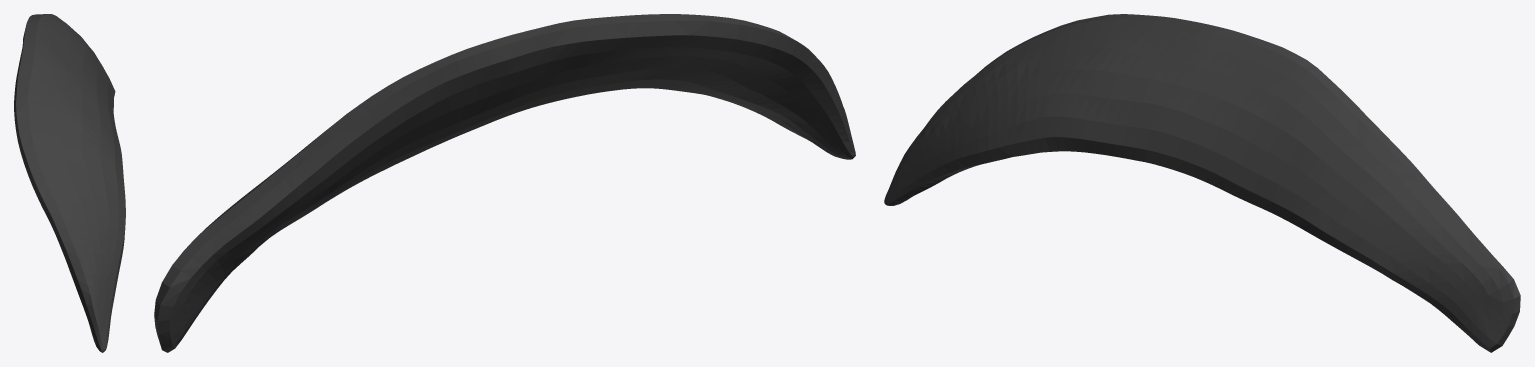
File: frontoscutularis.glb
The picture shows the model from 3 angles, left to right: view 1: azimuth 30°, elevation 25°; view 2: azimuth 150°, elevation 25°; view 3: azimuth 270°, elevation 25°; orthographic projection. The views are drawn at different scales.
Visible parts, largest first — view 1: frontoscutularis; view 2: frontoscutularis; view 3: frontoscutularis.
Boxes of the visible parts, x1,y1,x2,y2 form: frontoscutularis: [14, 14, 125, 352]; frontoscutularis: [154, 14, 855, 352]; frontoscutularis: [884, 14, 1520, 352].
Size of the model in its own units: 0.4628 by 0.3368 by 0.8589.
Materials: 1 (1 with a texture image).
